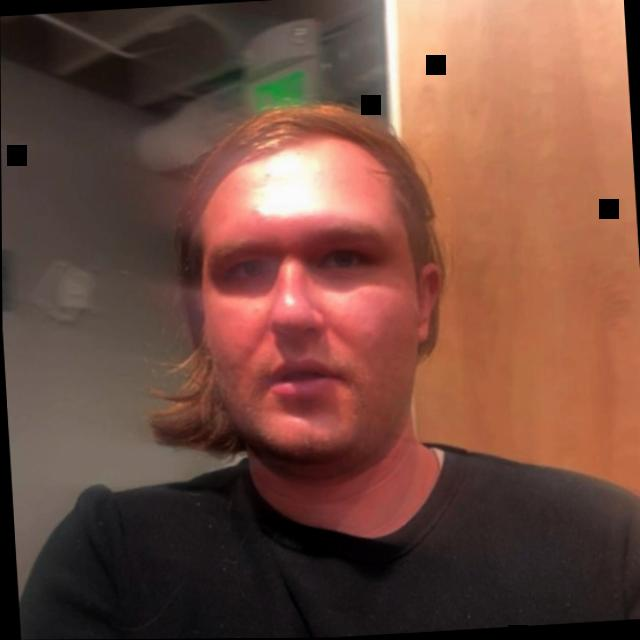NO-Mask: (133, 90, 457, 579)
